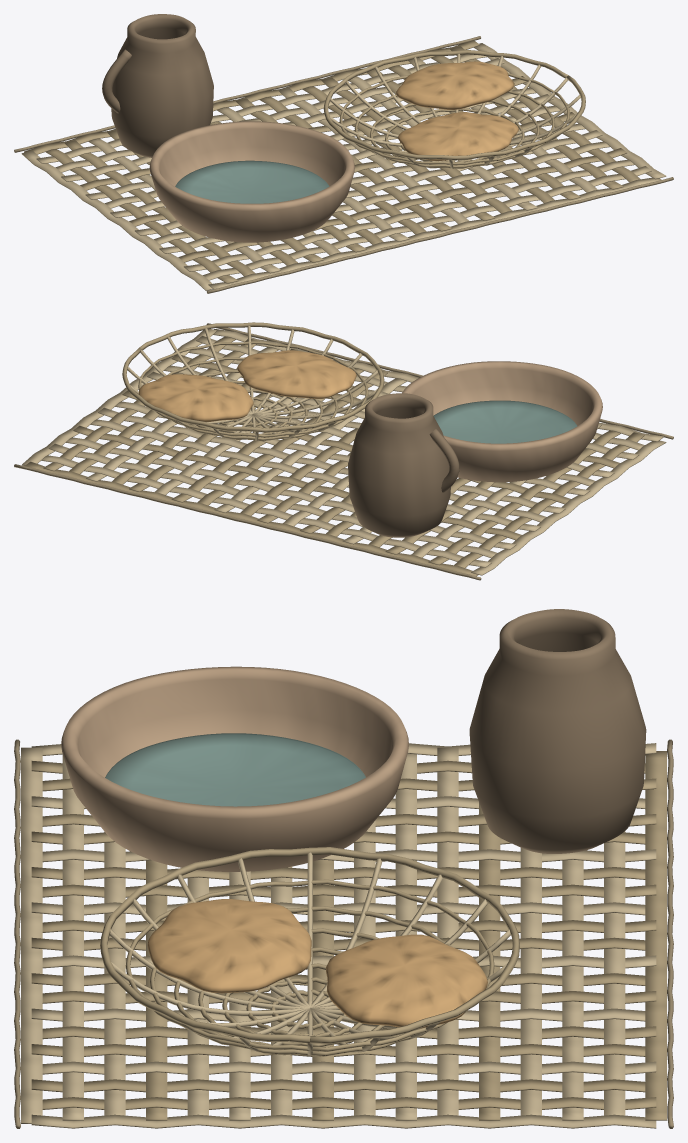
The model's file is abraham-hospitality.glb.
3 views of the same model, one above another, from view 1: azimuth 30°, elevation 25°; view 2: azimuth 150°, elevation 25°; view 3: azimuth 270°, elevation 25° (orthographic). The views are drawn at different scales.
Visible parts, largest first — view 1: abraham-hospitality-abraham-pale-reed-fibre, abraham-hospitality-abraham-reed-fibre, abraham-hospitality-abraham-selected-buff-earthenware, abraham-hospitality-abraham-selected-dark-earthenware, abraham-hospitality-abraham-reed-fibre.001, abraham-hospitality-abraham-clean-water-comparison, abraham-hospitality-abraham-baked-flatbread.001, abraham-hospitality-abraham-baked-flatbread, abraham-hospitality-abraham-undated-fibre-rope, abraham-hospitality-abraham-pale-reed-fibre.001; view 2: abraham-hospitality-abraham-pale-reed-fibre, abraham-hospitality-abraham-reed-fibre, abraham-hospitality-abraham-selected-buff-earthenware, abraham-hospitality-abraham-selected-dark-earthenware, abraham-hospitality-abraham-reed-fibre.001, abraham-hospitality-abraham-clean-water-comparison, abraham-hospitality-abraham-baked-flatbread, abraham-hospitality-abraham-baked-flatbread.001, abraham-hospitality-abraham-pale-reed-fibre.001, abraham-hospitality-abraham-undated-fibre-rope; view 3: abraham-hospitality-abraham-pale-reed-fibre, abraham-hospitality-abraham-reed-fibre, abraham-hospitality-abraham-selected-buff-earthenware, abraham-hospitality-abraham-selected-dark-earthenware, abraham-hospitality-abraham-reed-fibre.001, abraham-hospitality-abraham-clean-water-comparison, abraham-hospitality-abraham-baked-flatbread, abraham-hospitality-abraham-baked-flatbread.001, abraham-hospitality-abraham-pale-reed-fibre.001, abraham-hospitality-abraham-undated-fibre-rope.
Part boxes in pixels (x1,y1,x2,y2): abraham-hospitality-abraham-pale-reed-fibre: [21, 43, 666, 290]; abraham-hospitality-abraham-reed-fibre: [24, 40, 640, 283]; abraham-hospitality-abraham-selected-buff-earthenware: [149, 121, 354, 242]; abraham-hospitality-abraham-selected-dark-earthenware: [102, 14, 213, 157]; abraham-hospitality-abraham-reed-fibre.001: [323, 50, 585, 168]; abraham-hospitality-abraham-clean-water-comparison: [175, 160, 329, 203]; abraham-hospitality-abraham-baked-flatbread.001: [396, 61, 514, 109]; abraham-hospitality-abraham-baked-flatbread: [398, 112, 518, 160]; abraham-hospitality-abraham-undated-fibre-rope: [14, 36, 673, 293]; abraham-hospitality-abraham-pale-reed-fibre.001: [330, 53, 580, 168]; abraham-hospitality-abraham-pale-reed-fibre: [22, 329, 666, 575]; abraham-hospitality-abraham-reed-fibre: [25, 336, 644, 576]; abraham-hospitality-abraham-selected-buff-earthenware: [402, 361, 602, 482]; abraham-hospitality-abraham-selected-dark-earthenware: [348, 393, 459, 537]; abraham-hospitality-abraham-reed-fibre.001: [122, 322, 384, 441]; abraham-hospitality-abraham-clean-water-comparison: [433, 400, 577, 443]; abraham-hospitality-abraham-baked-flatbread: [237, 350, 356, 398]; abraham-hospitality-abraham-baked-flatbread.001: [138, 374, 253, 421]; abraham-hospitality-abraham-pale-reed-fibre.001: [127, 326, 377, 440]; abraham-hospitality-abraham-undated-fibre-rope: [14, 323, 673, 580]; abraham-hospitality-abraham-pale-reed-fibre: [21, 743, 656, 1128]; abraham-hospitality-abraham-reed-fibre: [31, 751, 666, 1120]; abraham-hospitality-abraham-selected-buff-earthenware: [61, 666, 408, 871]; abraham-hospitality-abraham-selected-dark-earthenware: [469, 609, 646, 853]; abraham-hospitality-abraham-reed-fibre.001: [100, 847, 519, 1056]; abraham-hospitality-abraham-clean-water-comparison: [105, 733, 365, 806]; abraham-hospitality-abraham-baked-flatbread: [147, 899, 311, 993]; abraham-hospitality-abraham-baked-flatbread.001: [326, 934, 487, 1028]; abraham-hospitality-abraham-pale-reed-fibre.001: [109, 852, 510, 1056]; abraham-hospitality-abraham-undated-fibre-rope: [14, 739, 673, 1128].
Bounding box in the file's own units: 1.02 × 0.259 × 0.74.
